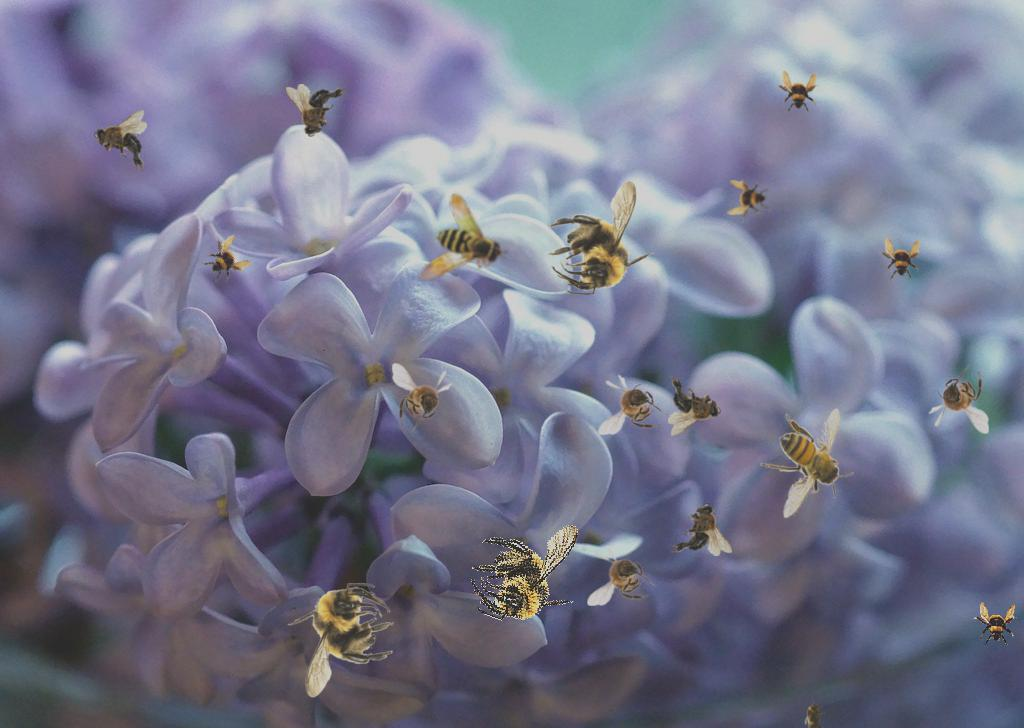Bee: (458, 497, 599, 642), (390, 187, 510, 305), (287, 583, 394, 698), (548, 180, 655, 295), (760, 408, 854, 519), (587, 545, 657, 606), (392, 363, 453, 433), (598, 374, 668, 435), (928, 364, 989, 434), (194, 228, 256, 290), (668, 374, 721, 436), (94, 110, 147, 172), (670, 503, 732, 556), (286, 84, 348, 137), (973, 602, 1017, 646), (775, 70, 819, 114), (727, 178, 771, 222), (878, 237, 922, 281), (804, 697, 826, 728)
